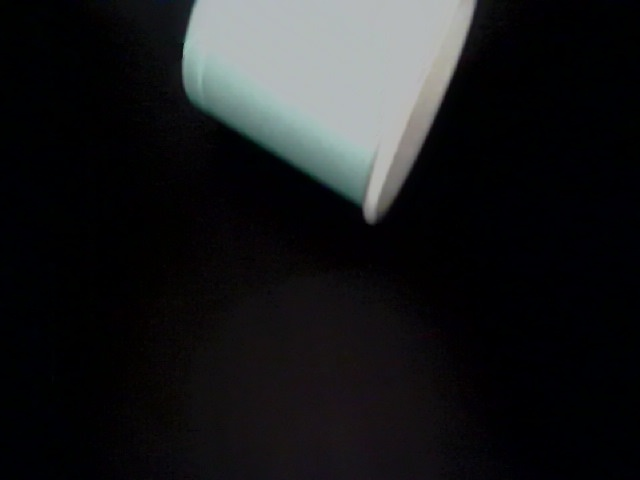KHSLJ: (79, 305, 467, 480)
